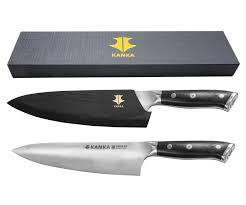kuchillu: (8, 138, 239, 179)
